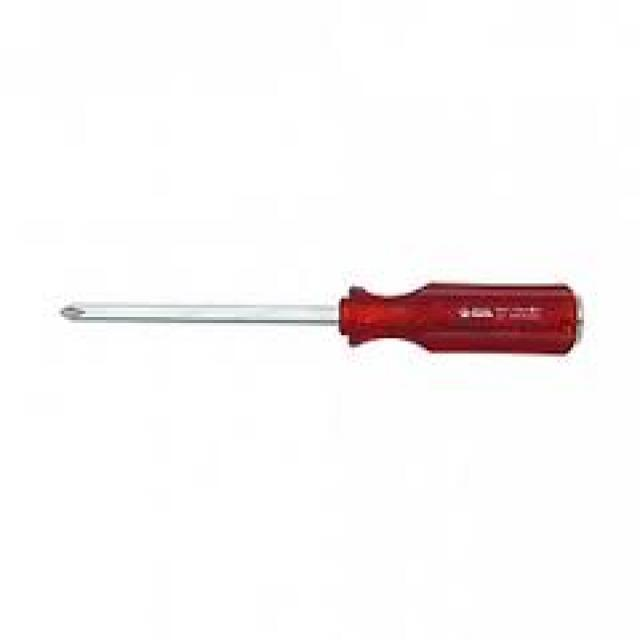screwdriver: (50, 274, 602, 357)
